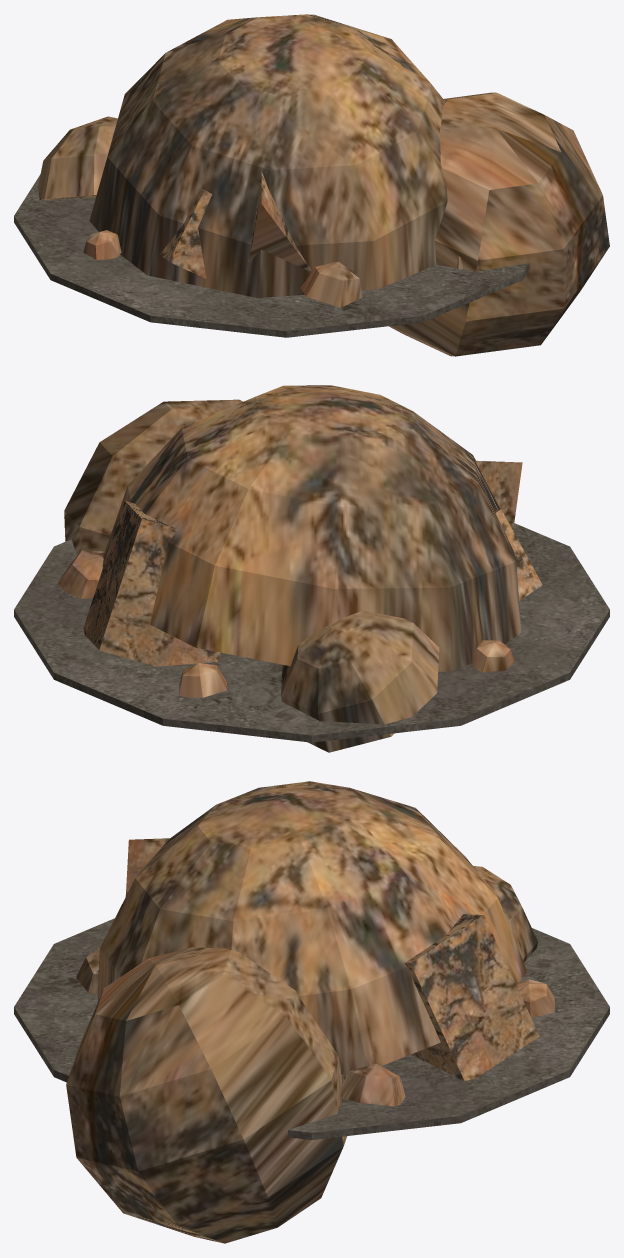
File: rock.glb
The picture shows the model from 3 angles, top to bottom: view 1: azimuth 30°, elevation 25°; view 2: azimuth 150°, elevation 25°; view 3: azimuth 270°, elevation 25°; orthographic projection. The views are drawn at different scales.
Visible parts, largest first — view 1: MainBoulder, SecondBoulder, GroundShadow, SmallRock, Shard, Pebble_1, Facet2, Pebble_3; view 2: MainBoulder, GroundShadow, SmallRock, Facet1, SecondBoulder, Shard, Pebble_0, Pebble_4, Facet2, Pebble_3; view 3: MainBoulder, SecondBoulder, GroundShadow, Facet1, Pebble_0, SmallRock, Shard, Pebble_4, Pebble_1.
Part boxes in pixels (x1,y1,x2,y2): MainBoulder: (89,14,447,297); SecondBoulder: (389,92,609,356); GroundShadow: (14,174,529,337); SmallRock: (38,116,117,200); Shard: (247,171,311,271); Pebble_1: (300,261,362,307); Facet2: (160,189,212,278); Pebble_3: (83,230,121,259); MainBoulder: (102,385,521,671); GroundShadow: (14,523,609,742); SmallRock: (281,610,439,752); Facet1: (83,501,220,666); SecondBoulder: (64,399,242,555); Shard: (475,460,522,530); Pebble_0: (57,550,104,598); Pebble_4: (179,663,226,697); Facet2: (495,509,542,600); Pebble_3: (470,640,514,672); MainBoulder: (97,781,527,1074); SecondBoulder: (66,947,347,1243); GroundShadow: (14,918,609,1139); Facet1: (404,914,539,1081); Pebble_0: (340,1063,405,1106); SmallRock: (473,866,537,962); Shard: (125,838,169,896); Pebble_4: (516,979,554,1017); Pebble_1: (76,948,99,993).
Size of the model in its own units: 1.57 by 0.9657 by 1.5.
Materials: 12 (12 with a texture image).
